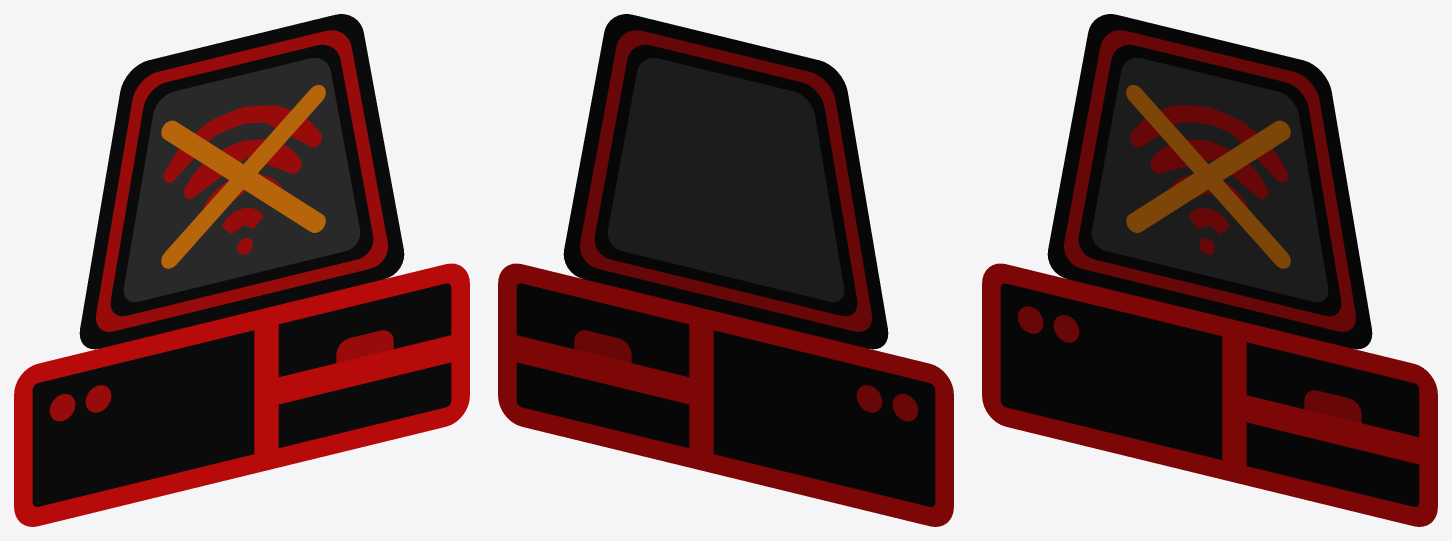
The model's file is DDOS.fbx.
3 views of the same model, side by side, from view 1: azimuth 30°, elevation 25°; view 2: azimuth 150°, elevation 25°; view 3: azimuth 330°, elevation 25° (orthographic).
Visible parts, largest first — view 1: DDOS; view 2: DDOS; view 3: DDOS.
Boxes of the visible parts, x1,y1,x2,y2 form: DDOS: (14, 14, 469, 526); DDOS: (498, 14, 953, 526); DDOS: (982, 14, 1437, 526).
Size of the model in its own units: 87.07 by 80.14 by 1.
Materials: 1 (1 with a texture image).
